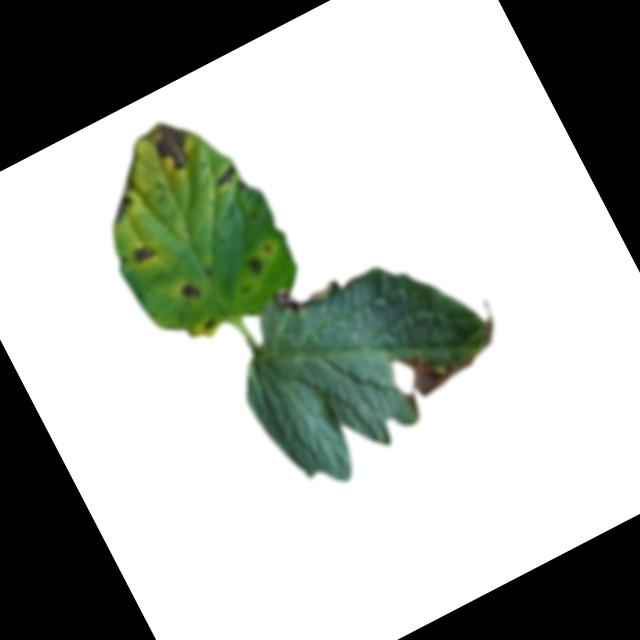Early_blight: (378, 294, 524, 414), (134, 111, 202, 183), (270, 266, 336, 324), (104, 191, 138, 223), (209, 162, 241, 189), (177, 277, 204, 305), (244, 250, 269, 277), (131, 239, 158, 264), (199, 314, 217, 331)
